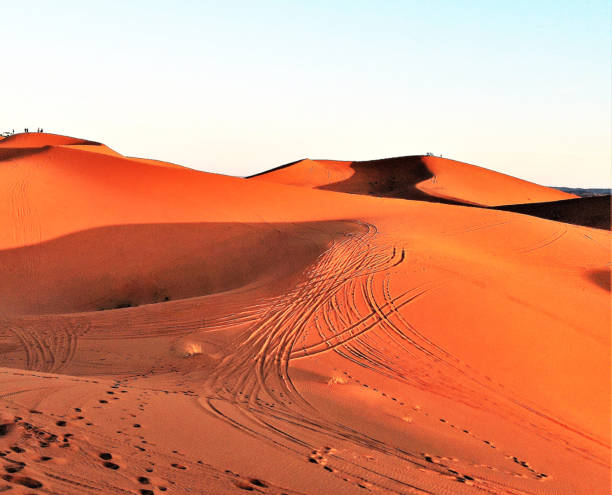vehicle_track: (95, 226, 486, 475), (200, 226, 455, 475), (201, 225, 427, 467), (334, 276, 604, 450), (335, 277, 604, 449), (209, 227, 397, 394), (337, 275, 464, 381), (332, 275, 431, 378), (292, 303, 389, 357), (0, 320, 88, 372), (8, 168, 41, 246), (519, 225, 567, 253), (442, 221, 508, 235)
